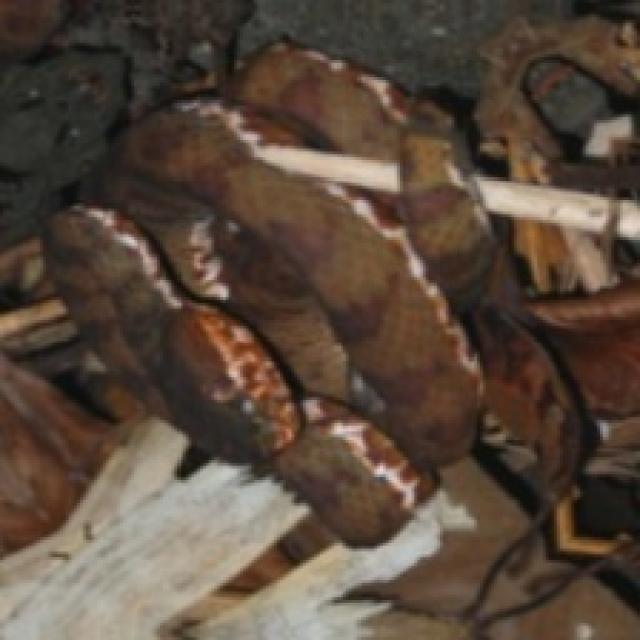philippine pitviper: (46, 43, 580, 543)
